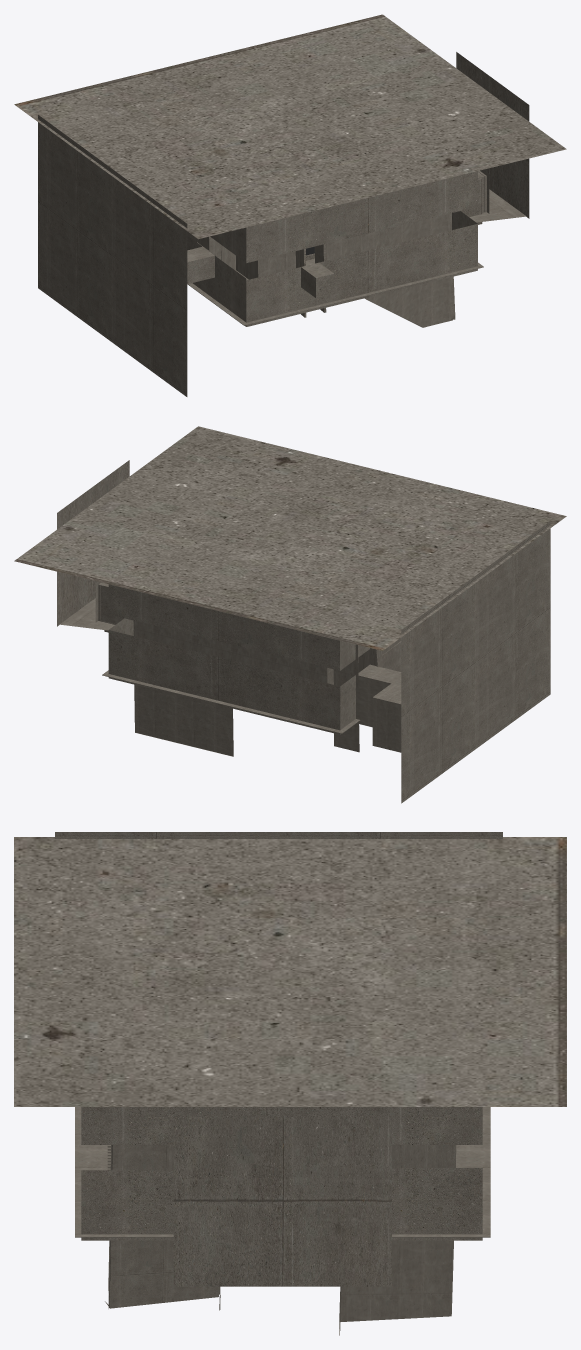
The model's file is 3drop_gallery_v23.glb.
3 views of the same model, one above another, from view 1: azimuth 30°, elevation 25°; view 2: azimuth 150°, elevation 25°; view 3: azimuth 270°, elevation 25° (orthographic). The views are drawn at different scales.
Visible parts, largest first — view 1: frameConcreteExternalTop, frameConcreteExternal, frameVisitableZoneSuround, ctrlPlateformConcrete_grndPhys; view 2: frameConcreteExternalTop, frameConcreteExternal, frameVisitableZoneSuround, ctrlPlateformConcrete_grndPhys, entranceLobbyConcrete; view 3: frameConcreteExternalTop, ctrlPlateformConcrete_grndPhys, frameConcreteExternal, frameVisitableZoneSuround.
Boxes of the visible parts, <box> form: frameConcreteExternalTop: <box>14,14,566,239</box>; frameConcreteExternal: <box>38,115,482,396</box>; frameVisitableZoneSuround: <box>187,213,455,327</box>; ctrlPlateformConcrete_grndPhys: <box>187,52,529,325</box>; frameConcreteExternalTop: <box>14,426,566,650</box>; frameConcreteExternal: <box>104,521,550,803</box>; frameVisitableZoneSuround: <box>133,620,401,756</box>; ctrlPlateformConcrete_grndPhys: <box>57,460,360,733</box>; entranceLobbyConcrete: <box>95,581,123,624</box>; frameConcreteExternalTop: <box>14,837,566,1106</box>; ctrlPlateformConcrete_grndPhys: <box>75,1107,490,1286</box>; frameConcreteExternal: <box>55,832,502,1240</box>; frameVisitableZoneSuround: <box>105,1107,456,1335</box>.
Bounding box in the file's own units: 133 × 62.19 × 110.
Materials: 2 (2 with a texture image).
